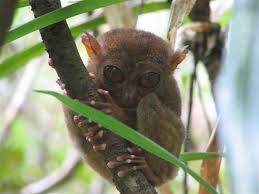tarsier: (70, 30, 187, 180)
